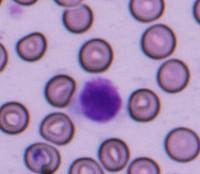L: (73, 72, 124, 126)
